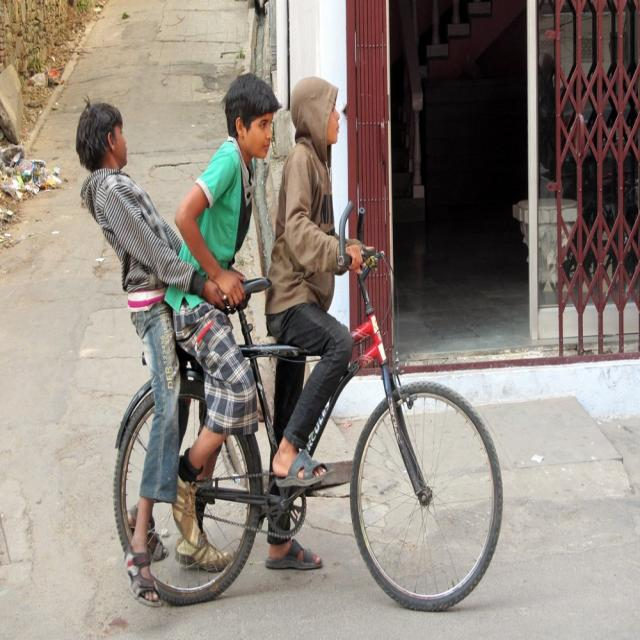bicycle: (76, 73, 502, 610)
